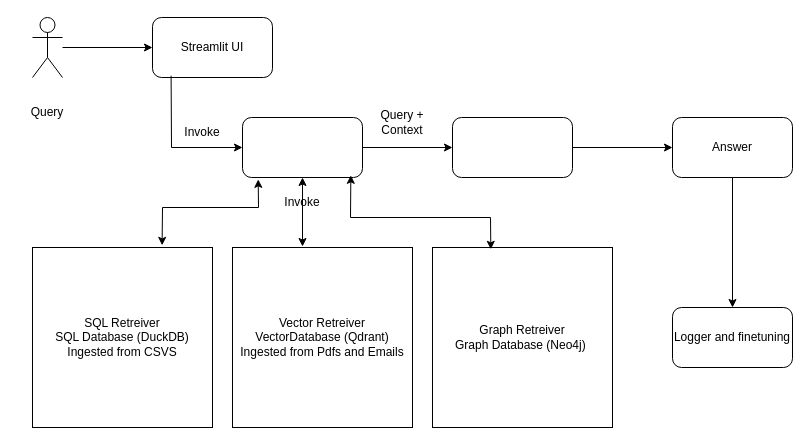
The diagram is 810 pixels wide and 445 high, and some of its shapes have lost their labels. The centre of each missing label's shape, as x and y in pixels:
Actor: point 47,47
Groq LLaMA3 RAG w/Feedback Tuner and Guardrails: point 512,147
LangChain Tool-Routing Agent: point 302,147
